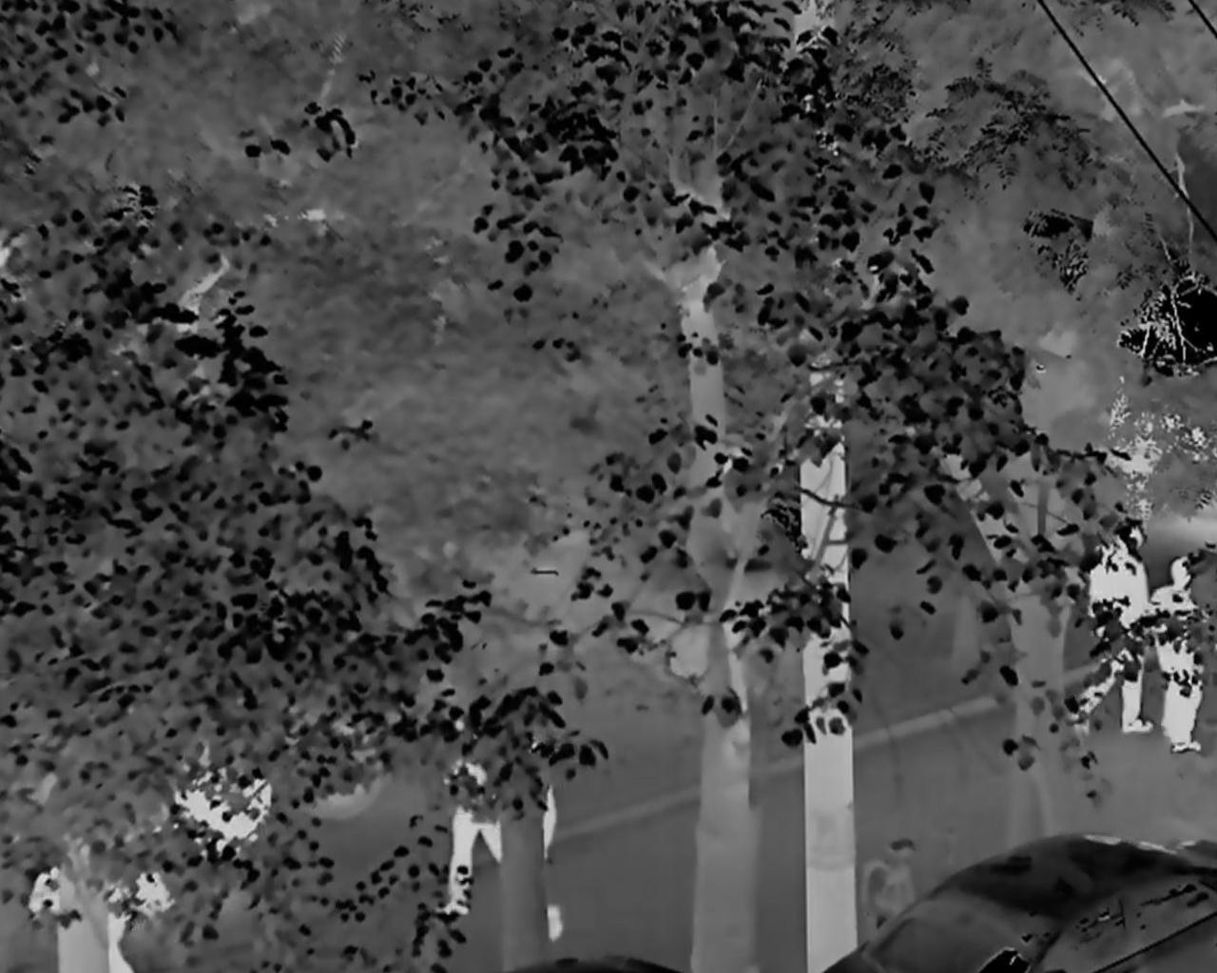person: (1082, 509, 1155, 740), (441, 718, 503, 933), (1149, 555, 1208, 756)
